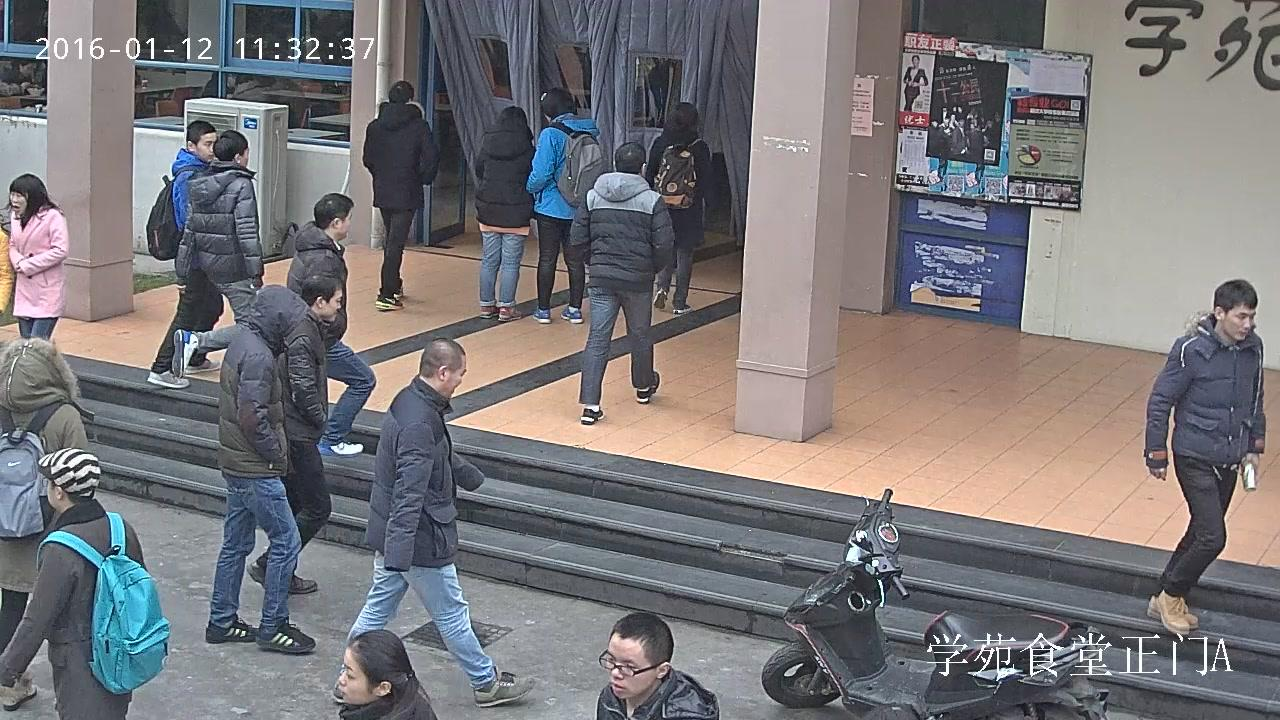person: (334, 337, 535, 707), (0, 448, 172, 720), (1143, 280, 1264, 633), (204, 285, 316, 656), (0, 339, 98, 710), (566, 141, 675, 423), (247, 274, 343, 594), (170, 129, 263, 387), (285, 192, 375, 456), (144, 121, 226, 387), (527, 88, 605, 323), (362, 80, 437, 310), (645, 101, 710, 313), (595, 610, 720, 720), (474, 107, 536, 320), (9, 174, 68, 341), (0, 59, 40, 96), (903, 53, 928, 112)
